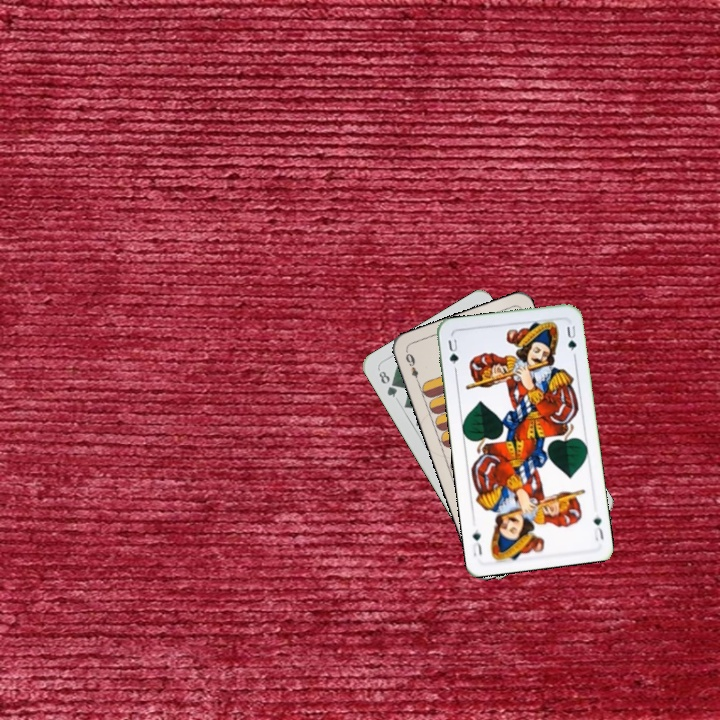E9: (401, 348, 422, 387)
G8: (374, 365, 400, 400)
GU: (444, 333, 461, 373), (589, 513, 606, 544)
